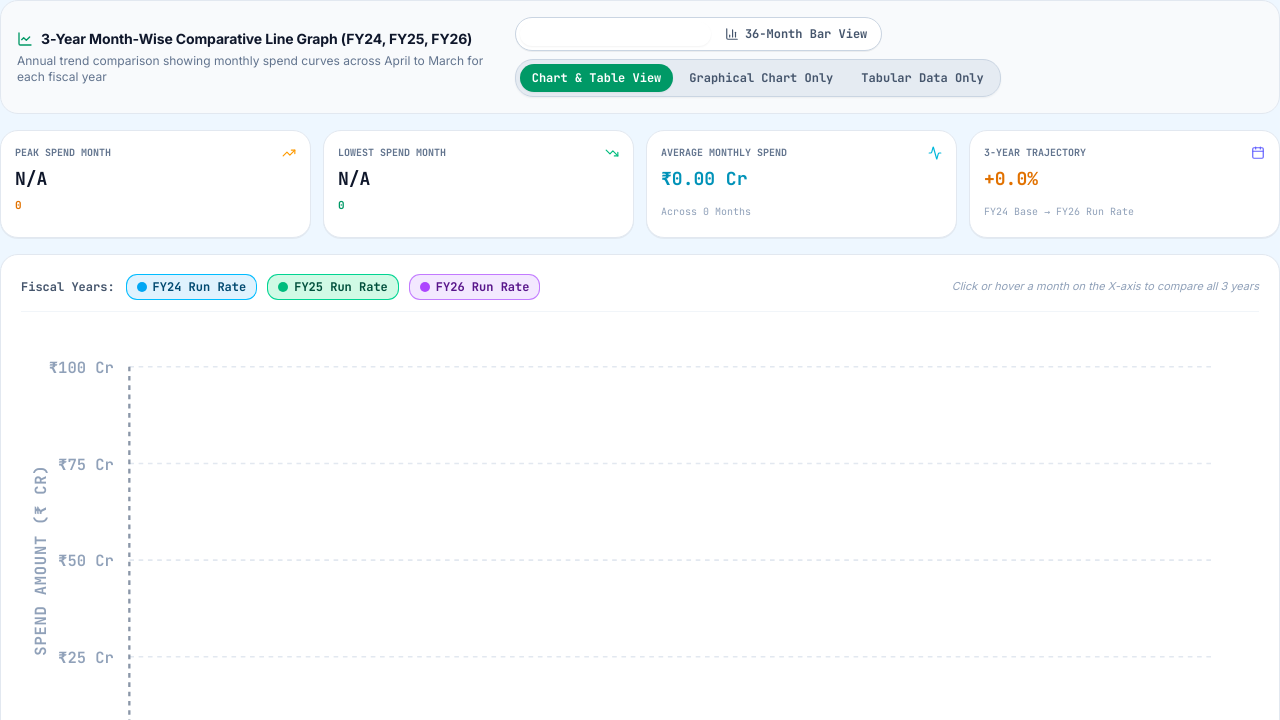
Test: MonthWiseTrendChart Component › toggles between Line Graph and 36-Month Timeline Bars view
The width and height of the screenshot is (1280, 720).
# Switch to Bar Timeline
Click the button "36-Month Bar View" at [796, 34], box 715,22 -> 877,46
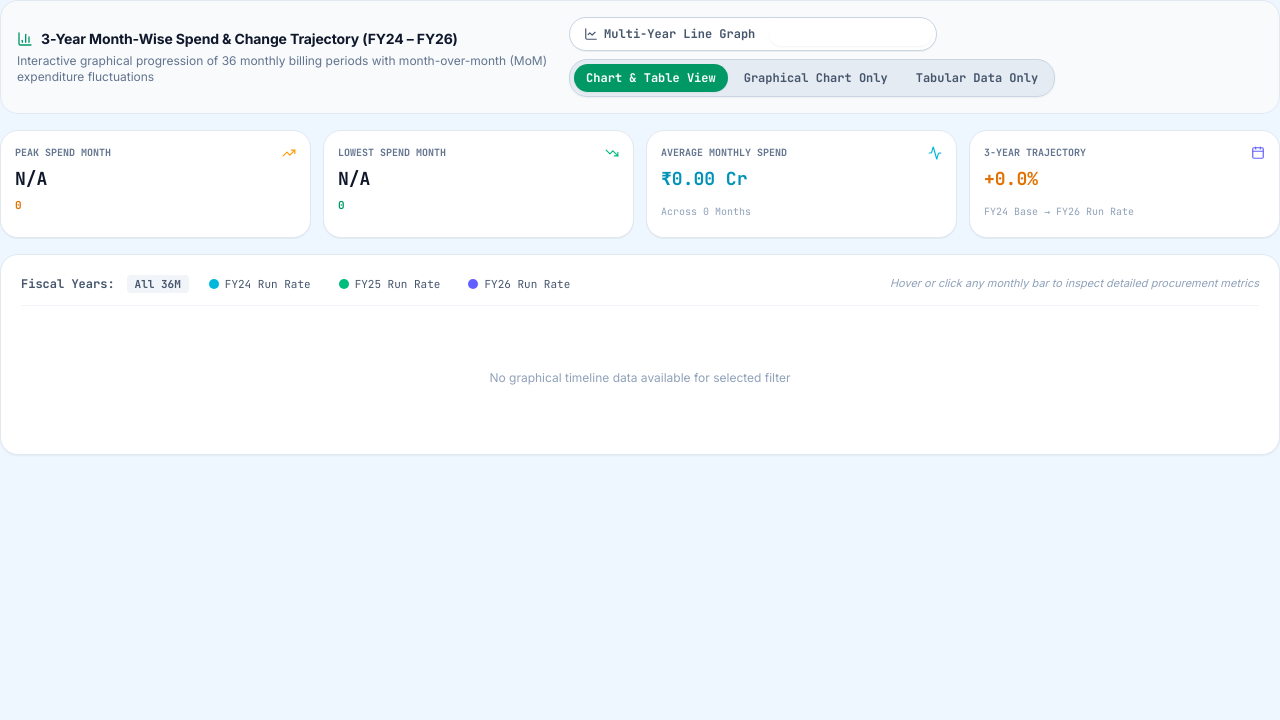
Expected: the heading "3-Year Month-Wise Spend & Change Trajectory (FY24 – FY26)" is shown, 41,29 -> 458,49
Expected: the text "Interactive graphical progression of 36 monthly billing periods with month-over-month (MoM) expenditure fluctuations" is shown, 17,53 -> 547,84
Expected: the text "All 36M" is shown, 135,277 -> 181,291
# Switch back to Line Graph
Click the button "Multi-Year Line Graph" at [670, 34], box 574,22 -> 765,46
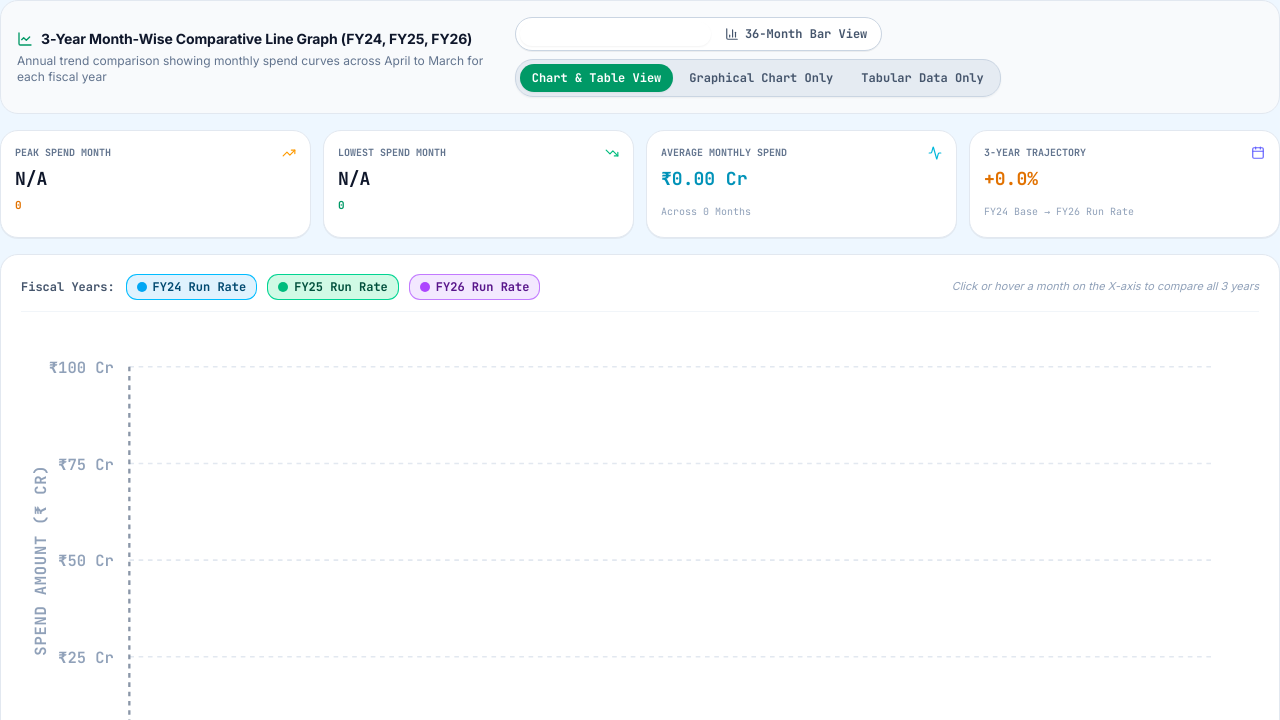
Expected: the heading "3-Year Month-Wise Comparative Line Graph (FY24, FY25, FY26)" is shown, 41,29 -> 472,49
